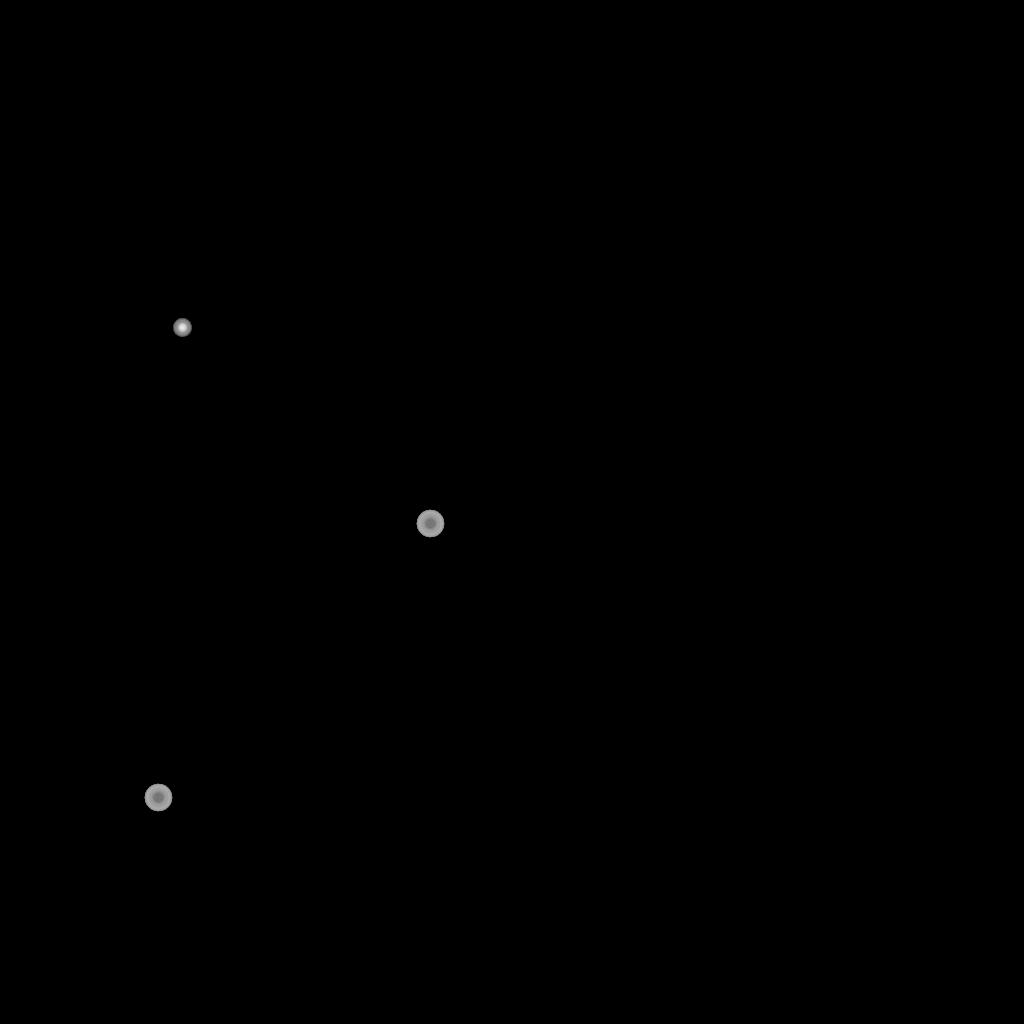depth:-20: (173, 319, 191, 337)
depth:-50: (416, 510, 444, 538), (144, 784, 172, 812)
